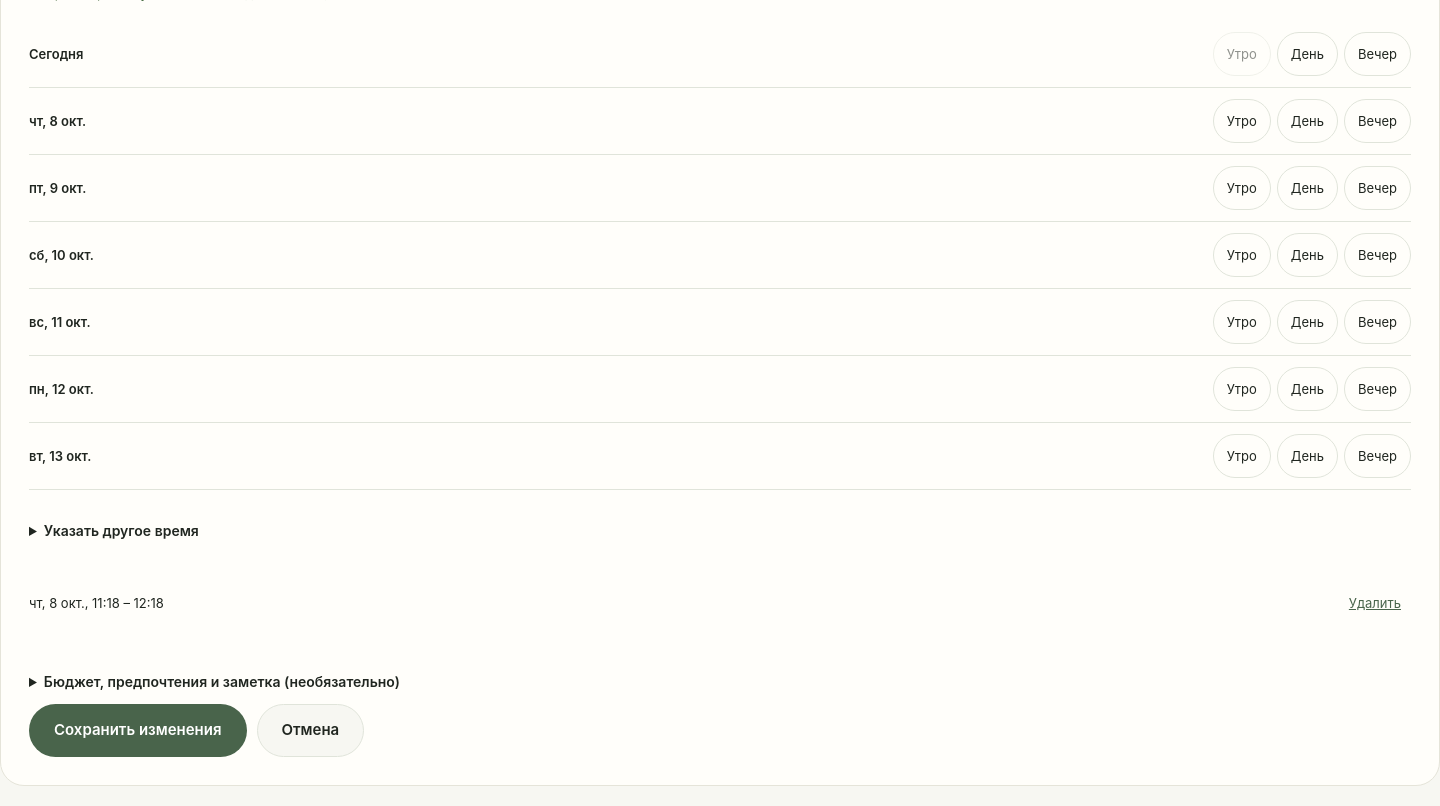
Test: participant form › does not create a new identity when an existing guest's session is revoked
(page scrolled)
Expected: the element named "Максимальный бюджет" holds "10.29", [44,673,400,690]
What coordinates should you click on to do the following:
click the button "Сохранить изменения"
I would click on:
 (138, 731)
Its box is [29,704,246,757].
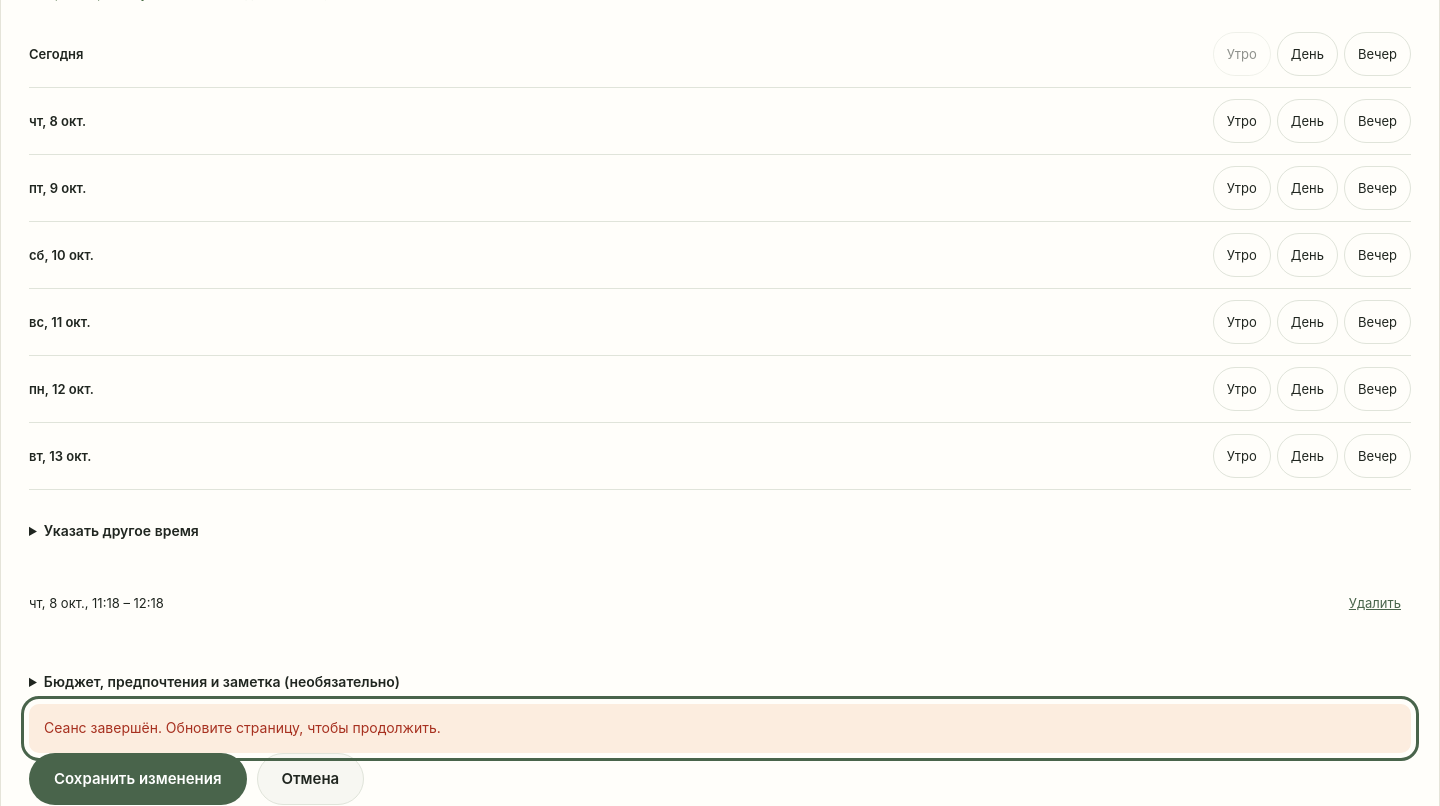
Expected: the message "Сеанс завершён. Обновите страницу, чтобы продолжить." is shown, [29,704,1411,753]
